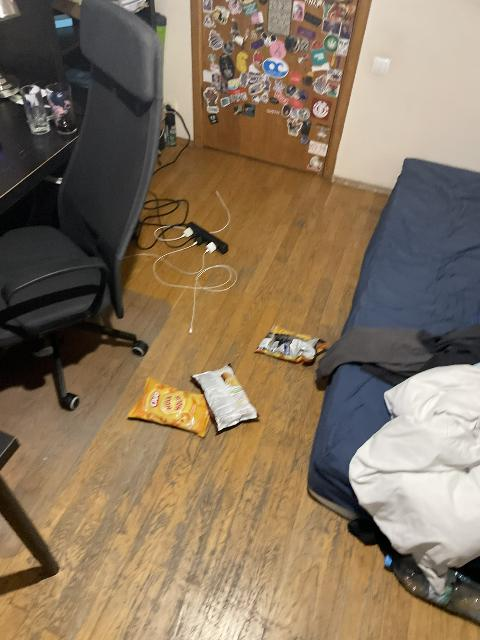Chio Cascaval 125g: (254, 325, 325, 363)
Chio Hula Hoops Cheese 70g: (127, 377, 212, 437)
Lays Beef Grilled Ribs 125g: (192, 364, 260, 433)
